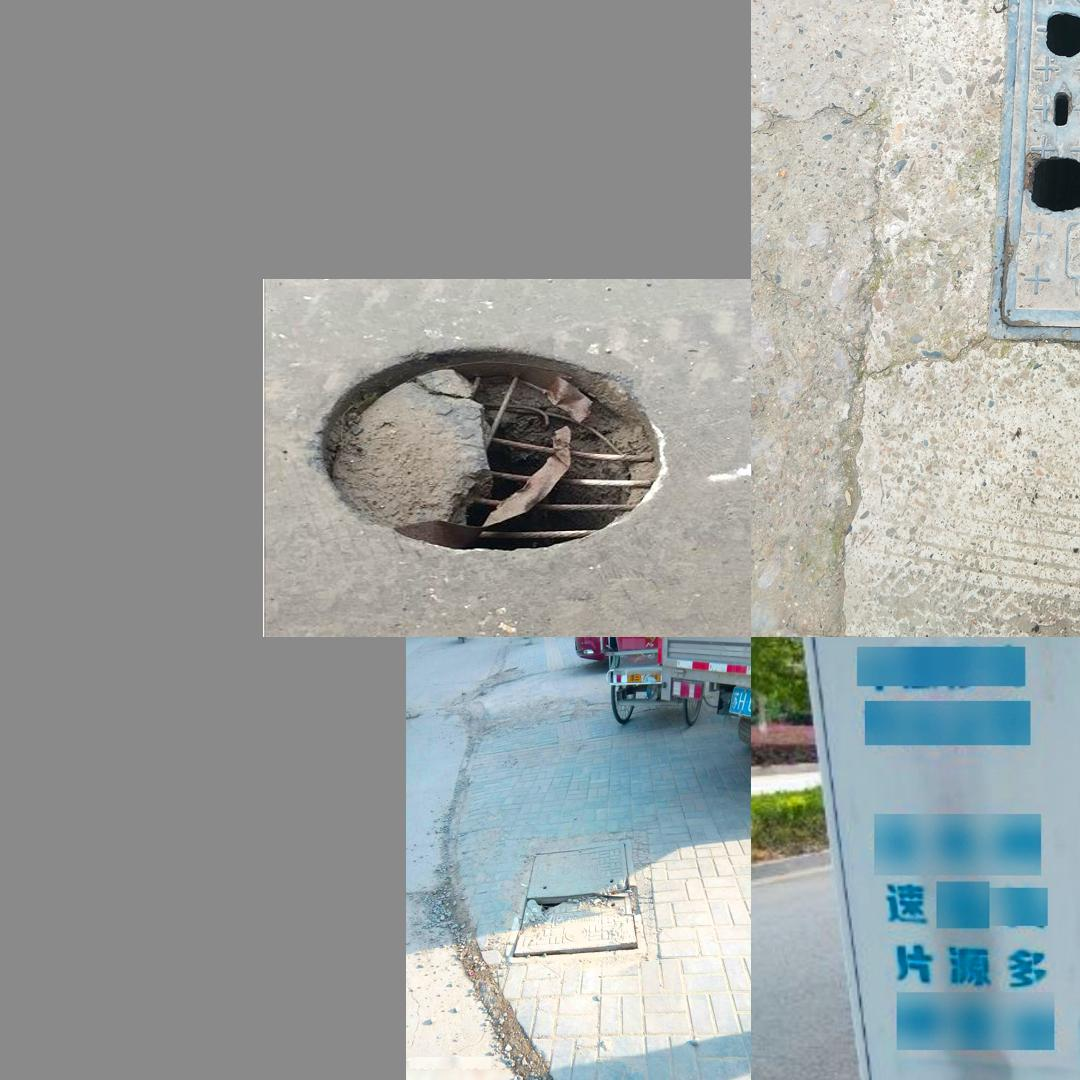broke: (318, 330, 676, 570), (989, 0, 1080, 352), (526, 849, 638, 948)
